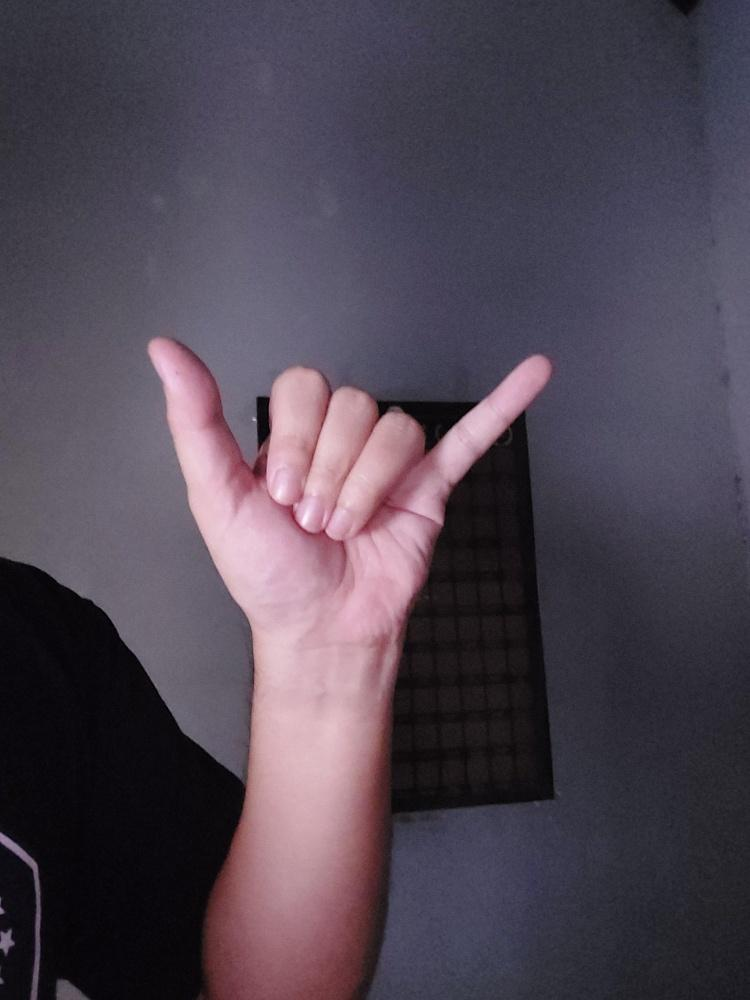y: (140, 330, 552, 616)
